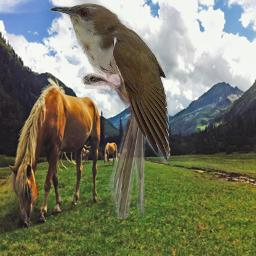Cuckoo: (49, 1, 169, 219)
